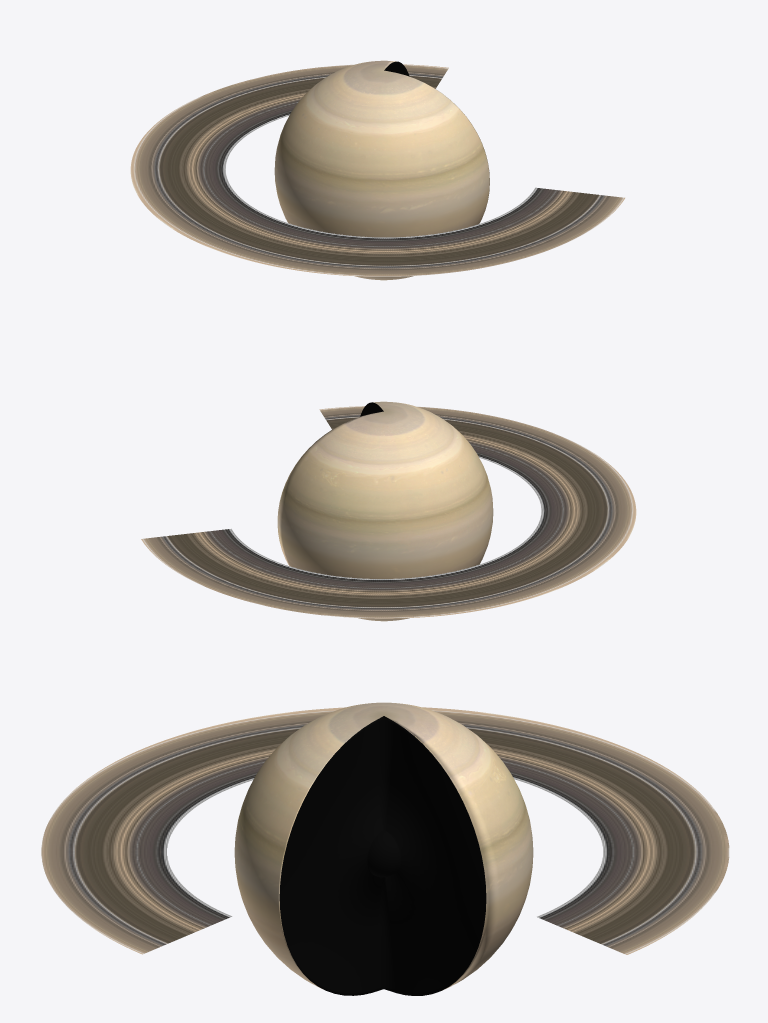
File: Saturn1.obj
The picture shows the model from 3 angles, top to bottom: view 1: azimuth 30°, elevation 25°; view 2: azimuth 150°, elevation 25°; view 3: azimuth 270°, elevation 25°; orthographic projection. The views are drawn at different scales.
Parts seen in each view (by area): view 1: Plane_Plane.002; view 2: Plane_Plane.002; view 3: Plane_Plane.002.
Part boxes in pixels (<box>): Plane_Plane.002: <box>130,60,624,280</box>; Plane_Plane.002: <box>141,401,636,621</box>; Plane_Plane.002: <box>41,702,729,995</box>.
Size of the model in its own units: 296 by 120 by 296.
Materials: 6 (2 with a texture image).
